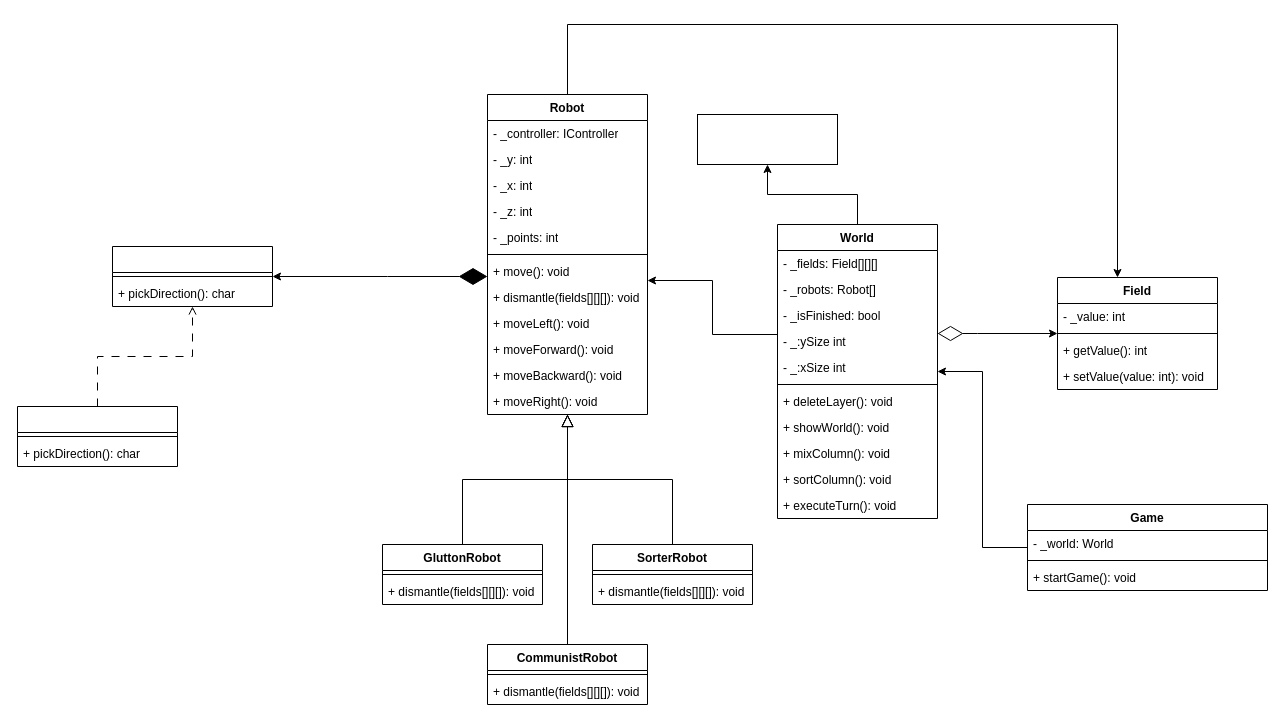
Image size: 1285x725. Some labels were removed from this diagram. Here are the shapes that lost their labels. From the top down, the box of each, then its label:
(696, 114, 838, 164): «enum» RobotType
(112, 246, 272, 306): IController
(16, 406, 178, 466): AIController
